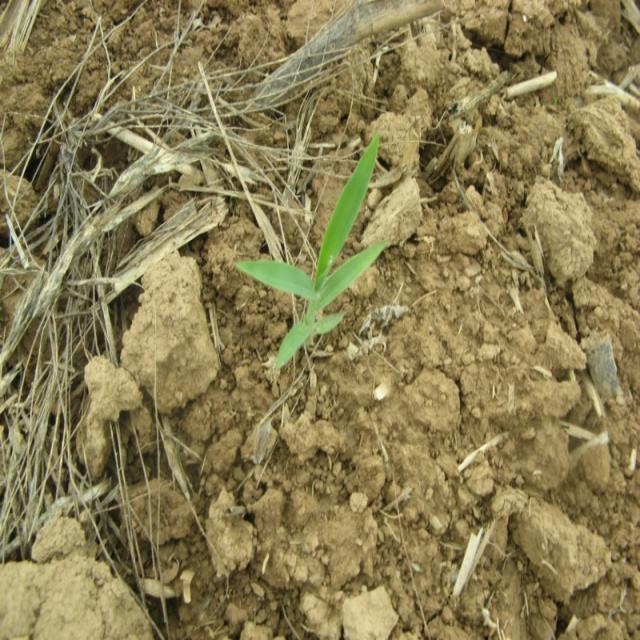bg: (237, 136, 395, 369)
